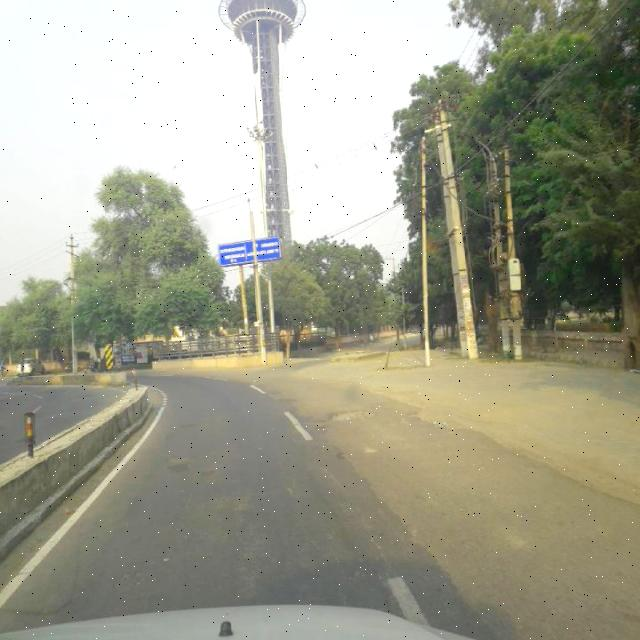D50: (318, 401, 380, 430)
